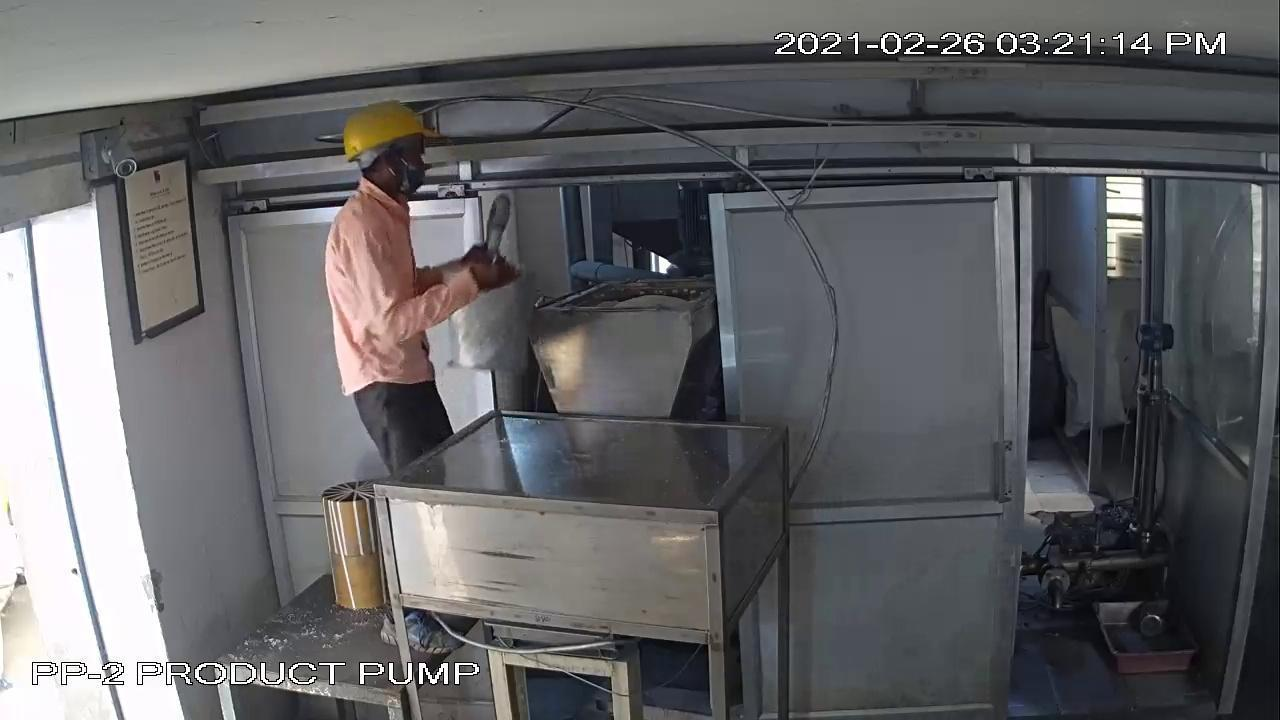helmet: (325, 99, 452, 172)
